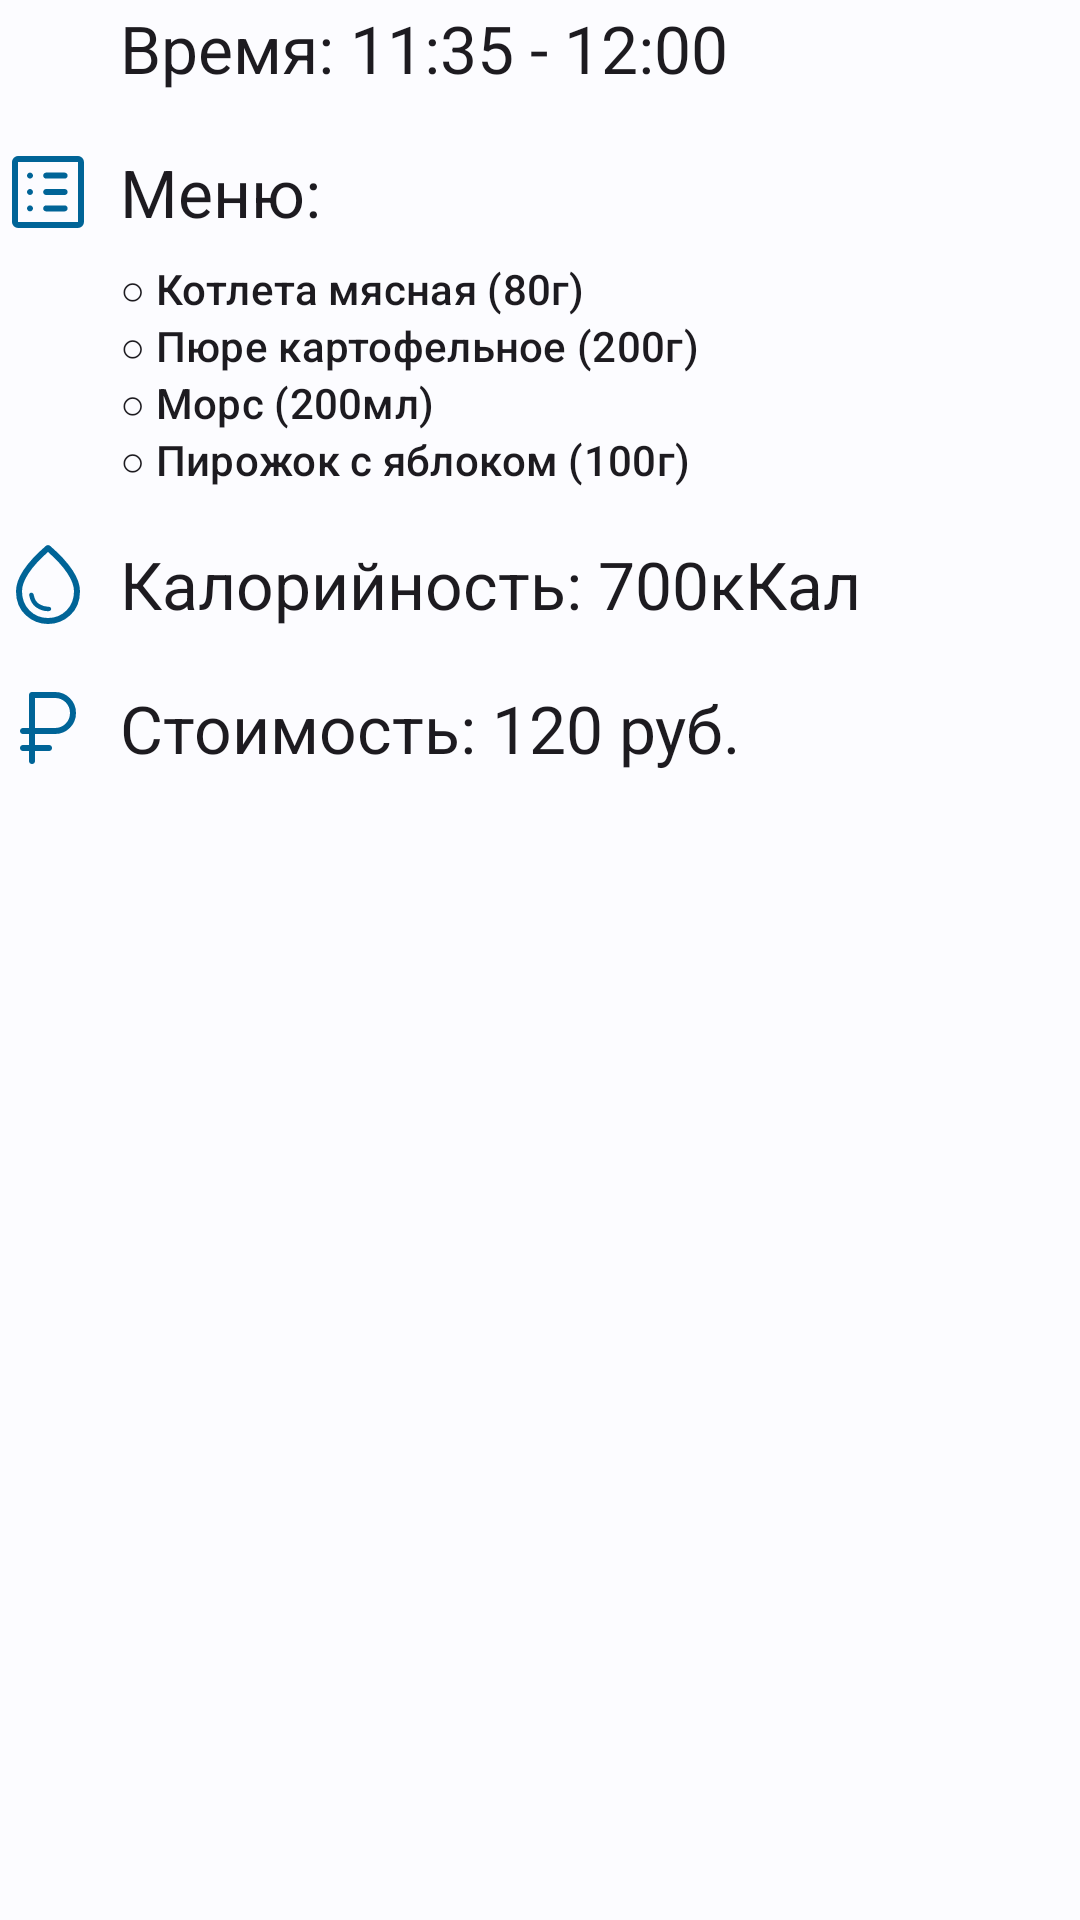

Named icons in this screenshot (1080 × 1920) and their bounding boxes, bbox=[x1, y1, x2, y2]:
menu icon: bbox=[12, 156, 84, 228]
price icon: bbox=[20, 692, 76, 764]
